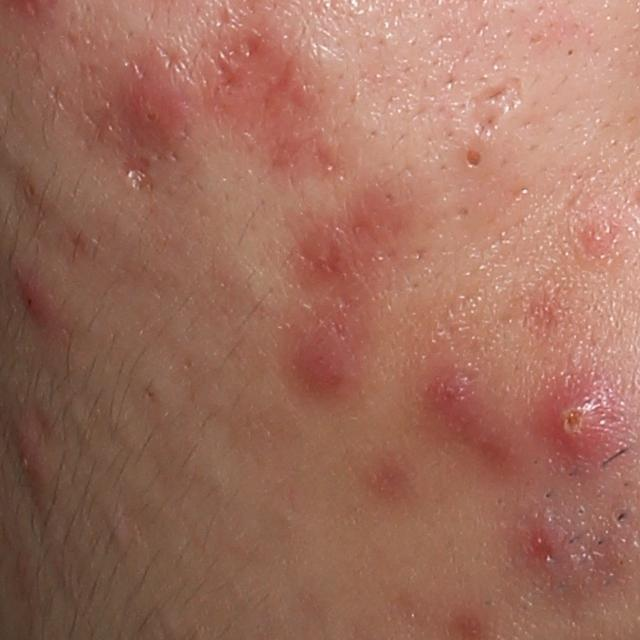atrophic_scar: (465, 74, 527, 143), (201, 37, 251, 101)
comedo: (138, 365, 183, 422), (458, 145, 489, 177)
papule: (525, 376, 622, 467), (117, 79, 194, 154), (516, 513, 582, 578), (294, 329, 356, 397), (425, 362, 482, 429), (9, 418, 50, 495), (17, 272, 61, 323), (580, 220, 619, 249)
